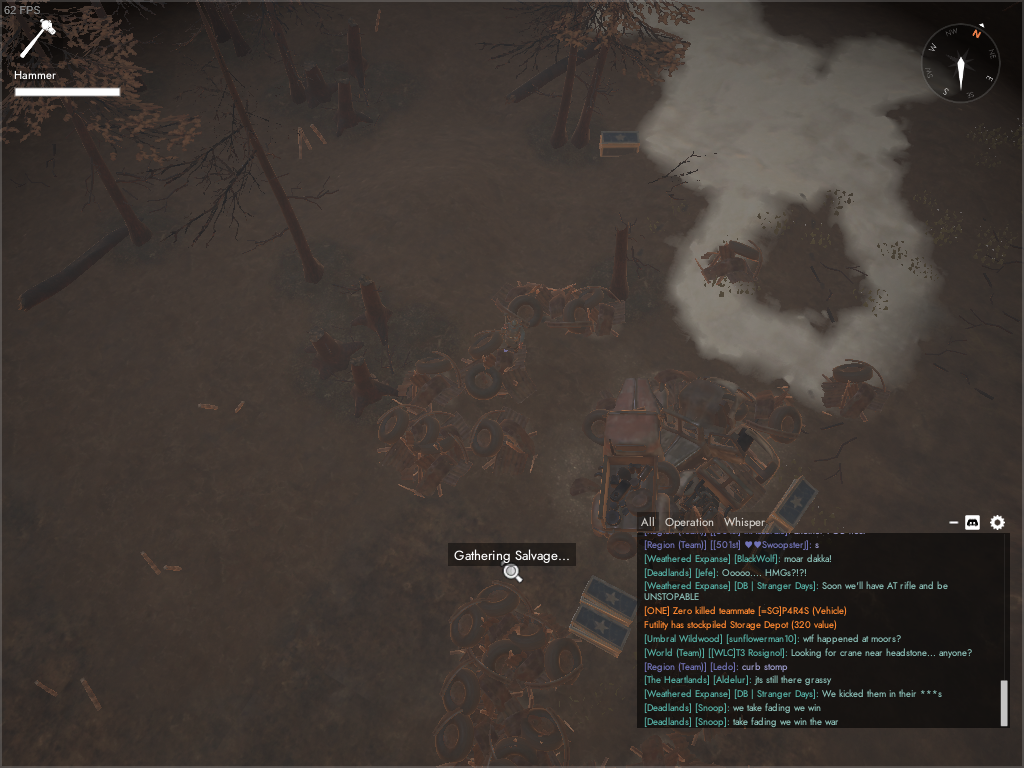gathering_salvage: (446, 539, 579, 567)
player: (496, 316, 527, 357)
scrap: (447, 583, 590, 702), (372, 407, 472, 502), (432, 703, 576, 768), (499, 274, 629, 344), (455, 315, 534, 404), (470, 402, 543, 474), (740, 374, 813, 445), (815, 355, 887, 425), (692, 233, 768, 298), (399, 339, 463, 409), (601, 728, 700, 768)
scrapyard: (563, 363, 783, 565)
storage_box: (729, 520, 794, 584), (577, 570, 642, 631), (566, 603, 632, 660), (760, 475, 823, 533), (596, 127, 642, 162)
